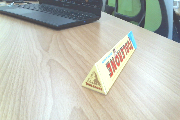Chocolate: (75, 25, 149, 101)
